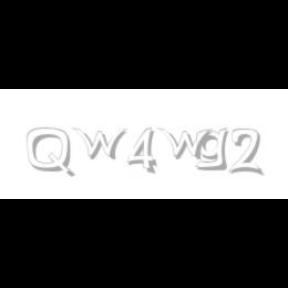2: (228, 128, 262, 176)
4: (127, 128, 158, 174)
Q: (27, 128, 73, 178)
g: (196, 128, 233, 171)
w: (73, 128, 132, 160), (158, 128, 216, 160)
